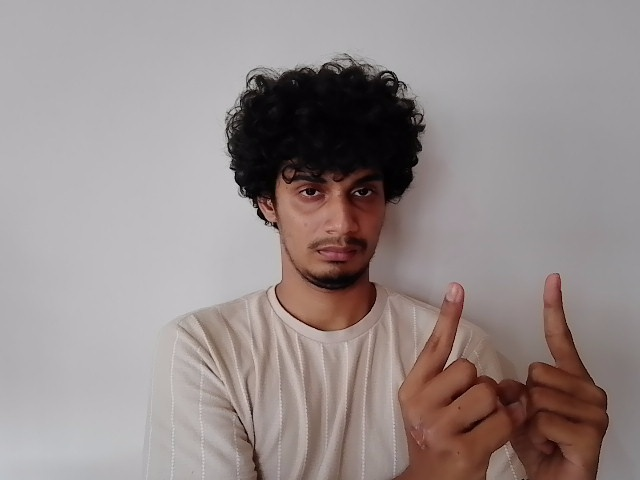play: (393, 270, 614, 476)
